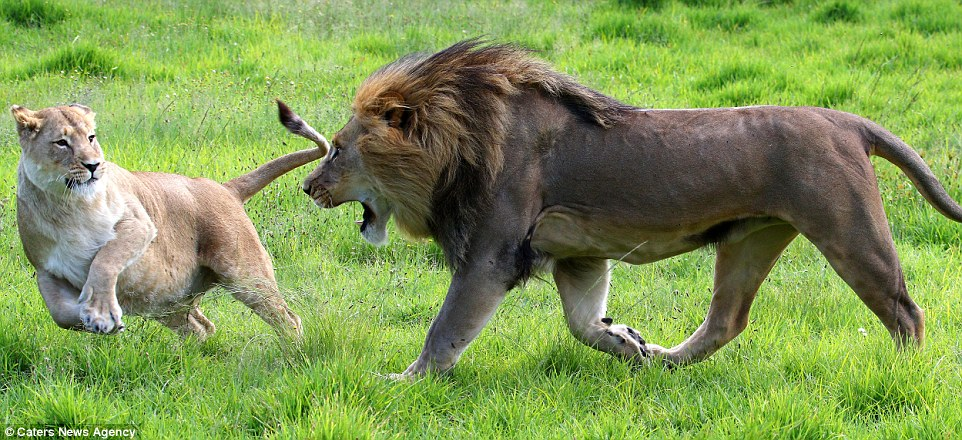lion: (305, 36, 962, 383), (7, 98, 334, 351)
